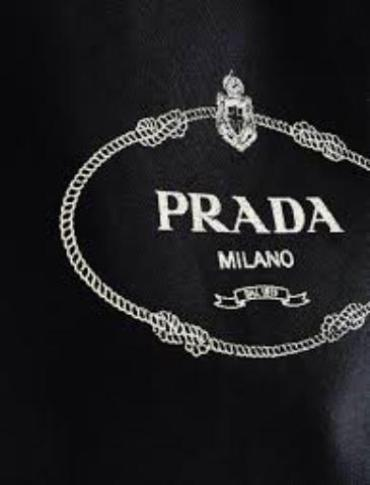PRADA: (151, 173, 351, 241)
